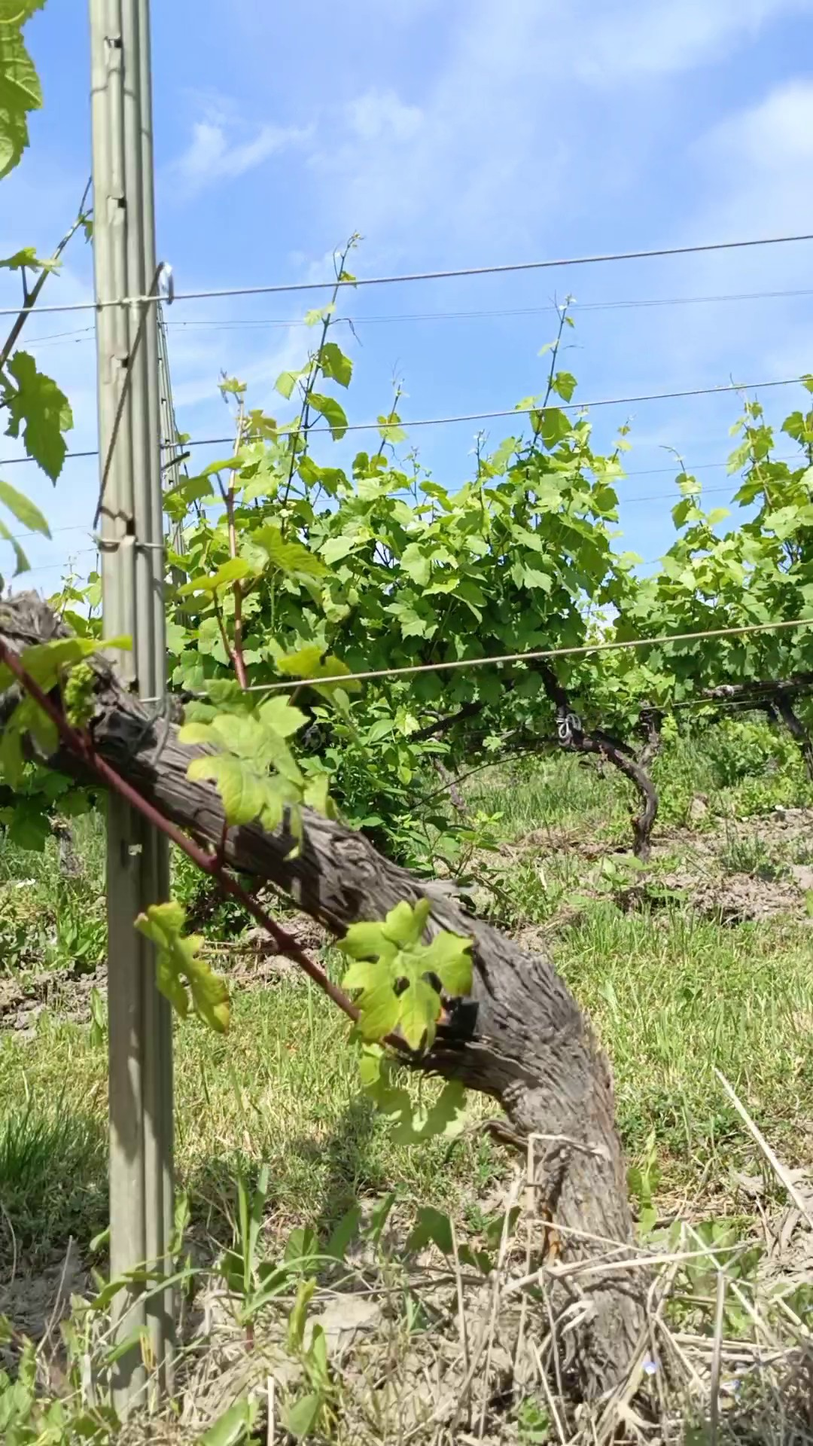vine_trunk: (226, 813, 632, 1243), (96, 680, 221, 844), (577, 1277, 642, 1395)
